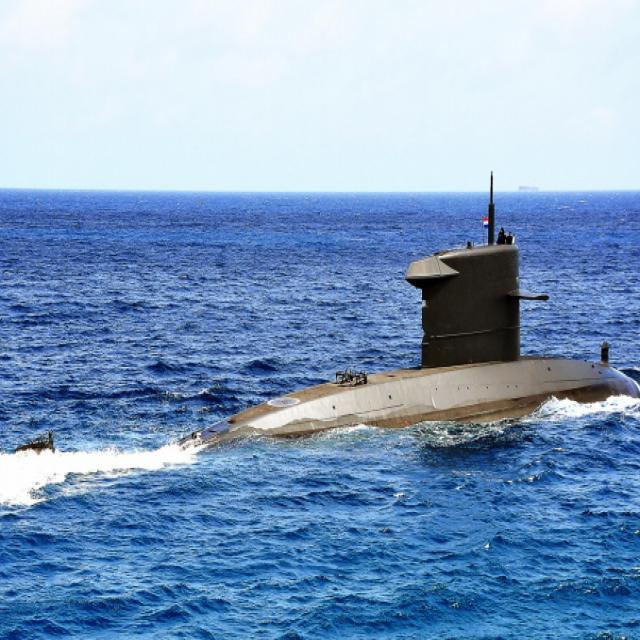submarine: (33, 246, 640, 476)
